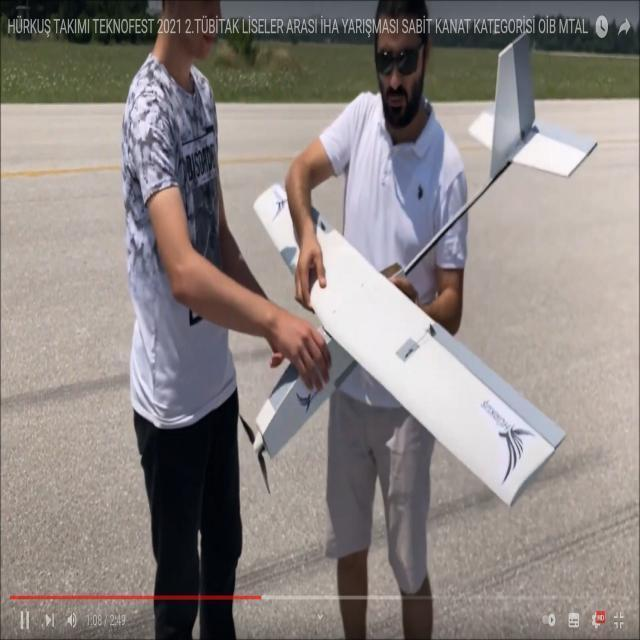iha: (220, 15, 593, 508)
